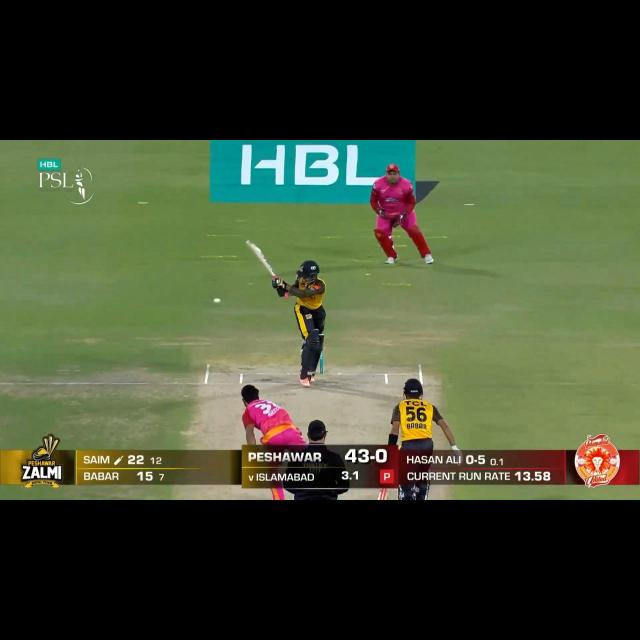bat: (246, 241, 277, 277), (374, 487, 390, 501)
toe: (246, 239, 257, 249)
